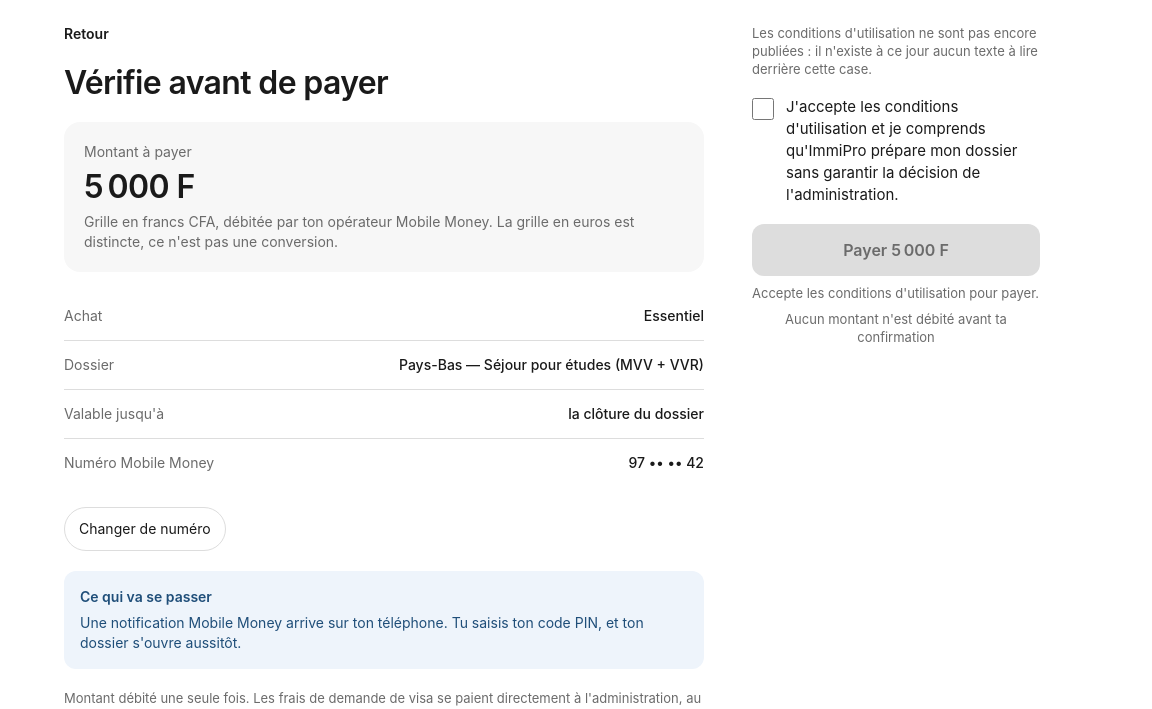
$-02 — Récapitulatif › ne débite pas tant que les conditions ne sont pas acceptées
The width and height of the screenshot is (1152, 709).
expect the button "Payer 5 000 F" is disabled: met, box top-left (752, 224), bottom-right (1040, 276)
What coordinates should you click on to do the following:
click the checkbox
I would click on:
 (763, 109)
Its box is top-left (752, 98), bottom-right (774, 120).
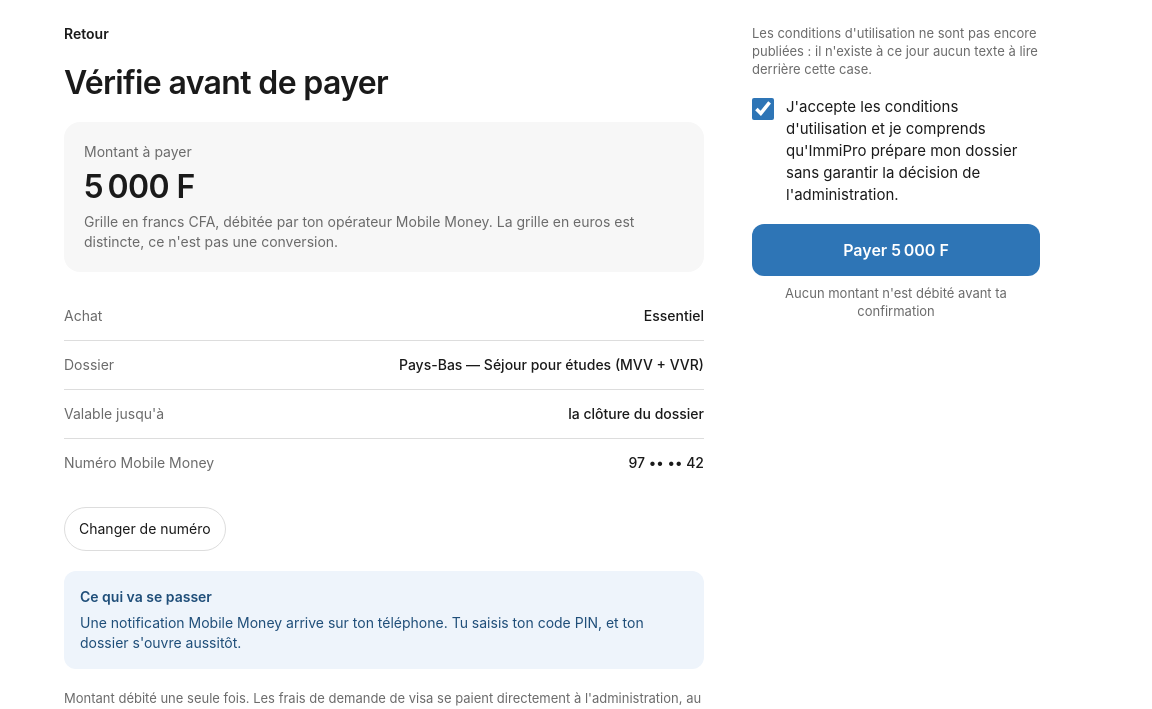
expect the button "Payer 5 000 F" is enabled: met, box top-left (752, 224), bottom-right (1040, 276)
